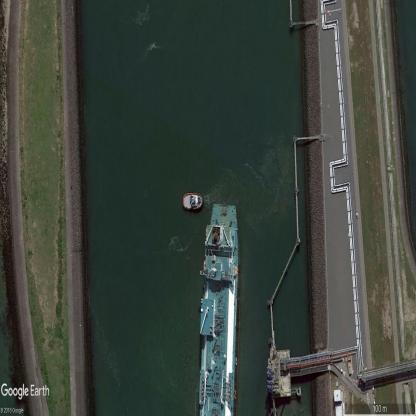ship: (199, 202, 239, 416), (182, 191, 203, 211)
